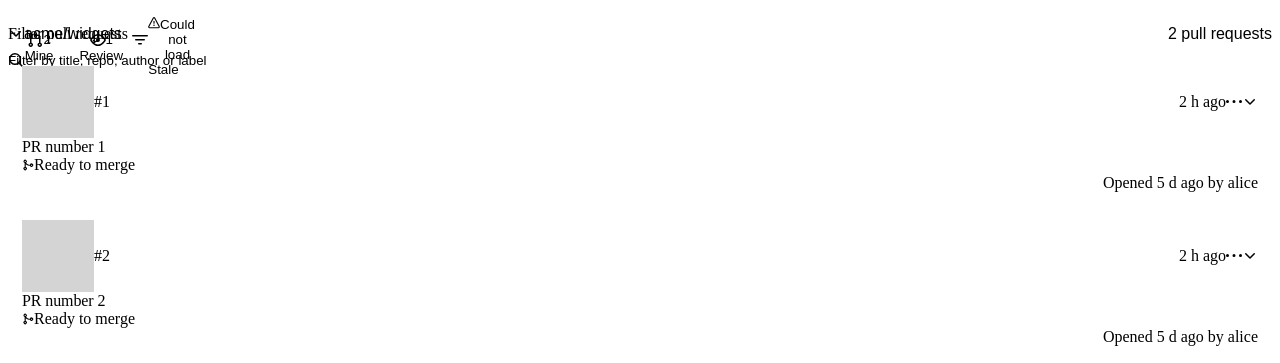
it: several sections › shows the section bar with short names, icons and counts, and switches panels
Click the tab "Review 1": {"x": 101, "y": 47} [70,16,132,78]
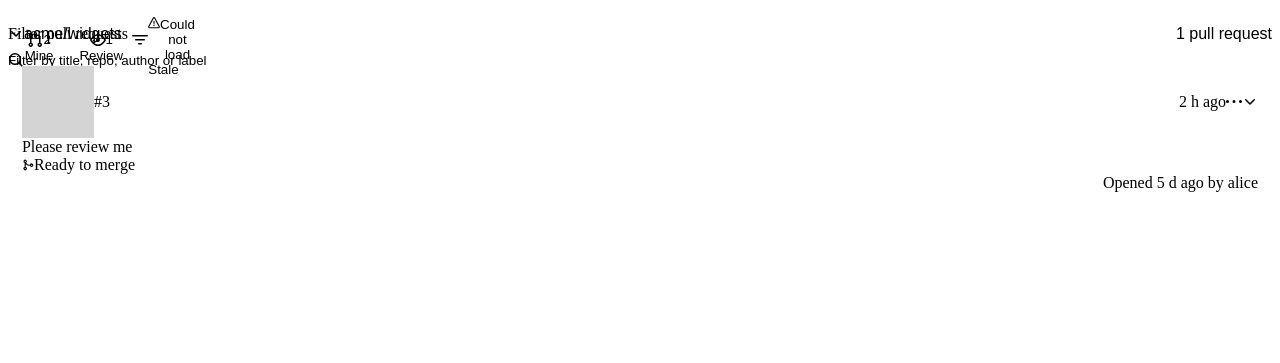
expect the panel named "Review requested" is shown: met, box [8,16,1272,206]
